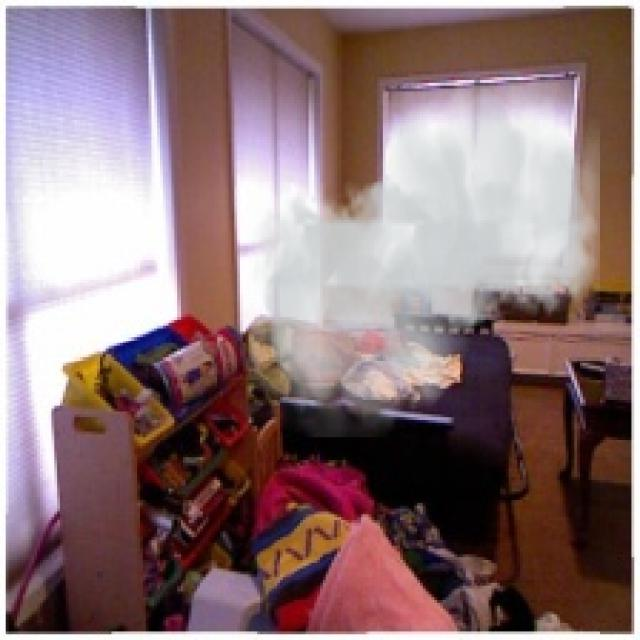smoke: (249, 72, 600, 437)
